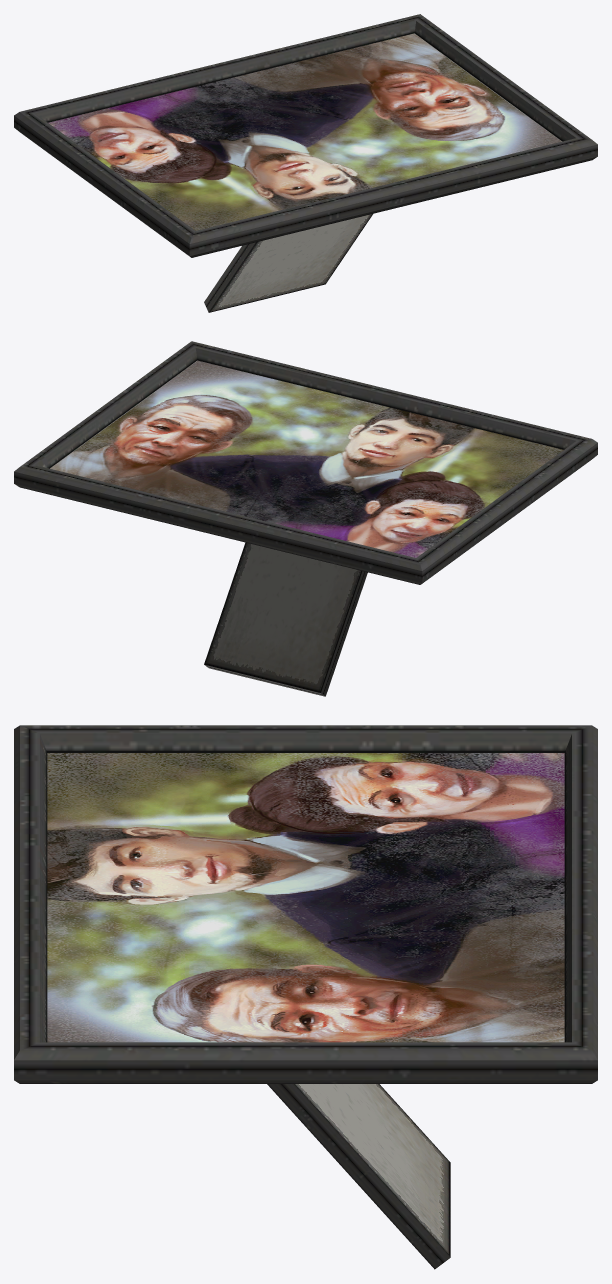
File: 02_05_brandon_family.dae
3 renders of one model, top to bottom at view 1: azimuth 30°, elevation 25°; view 2: azimuth 150°, elevation 25°; view 3: azimuth 270°, elevation 25°, orthographic. The views are drawn at different scales.
Parts seen in each view (by area): view 1: photo, frame; view 2: photo, frame; view 3: photo, frame.
Part boxes in pixels (x1,y1,x2,y2): photo: (48,33,561,230); frame: (14,14,597,312); photo: (50,360,563,557); frame: (14,341,597,696); photo: (47,753,564,1042); frame: (14,725,597,1269).
Size of the model in its own units: 36.58 by 17.22 by 27.27.
